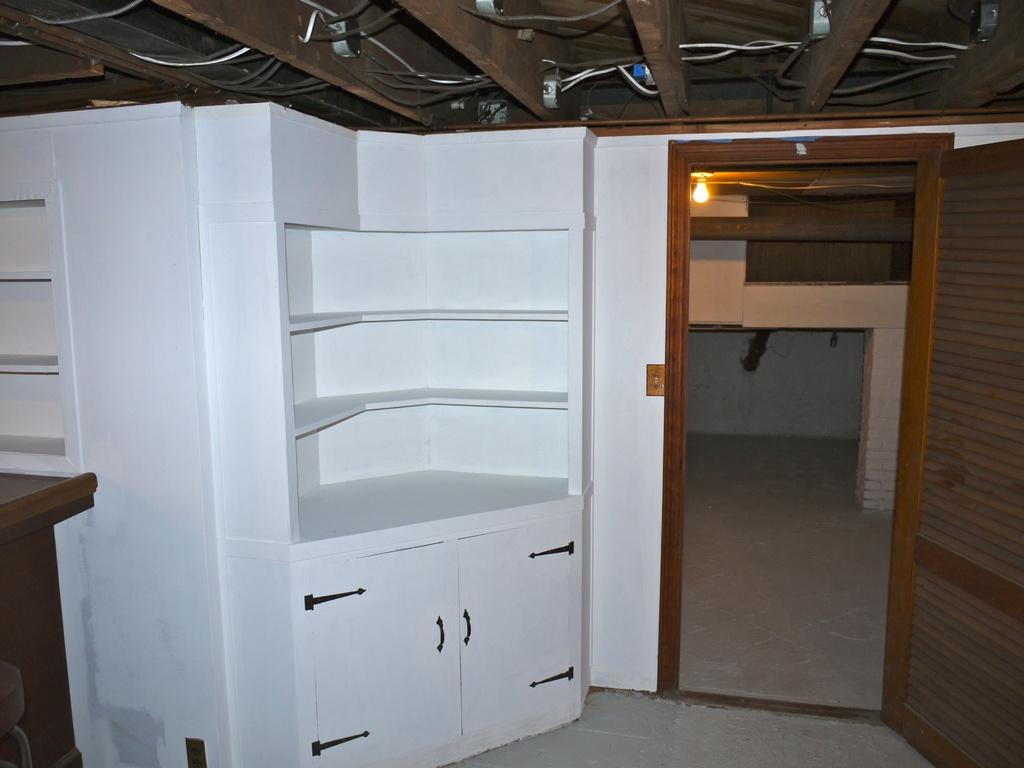cabinet_door: (314, 575, 456, 737), (464, 548, 567, 691)
handle: (460, 610, 474, 648), (437, 616, 447, 654)
